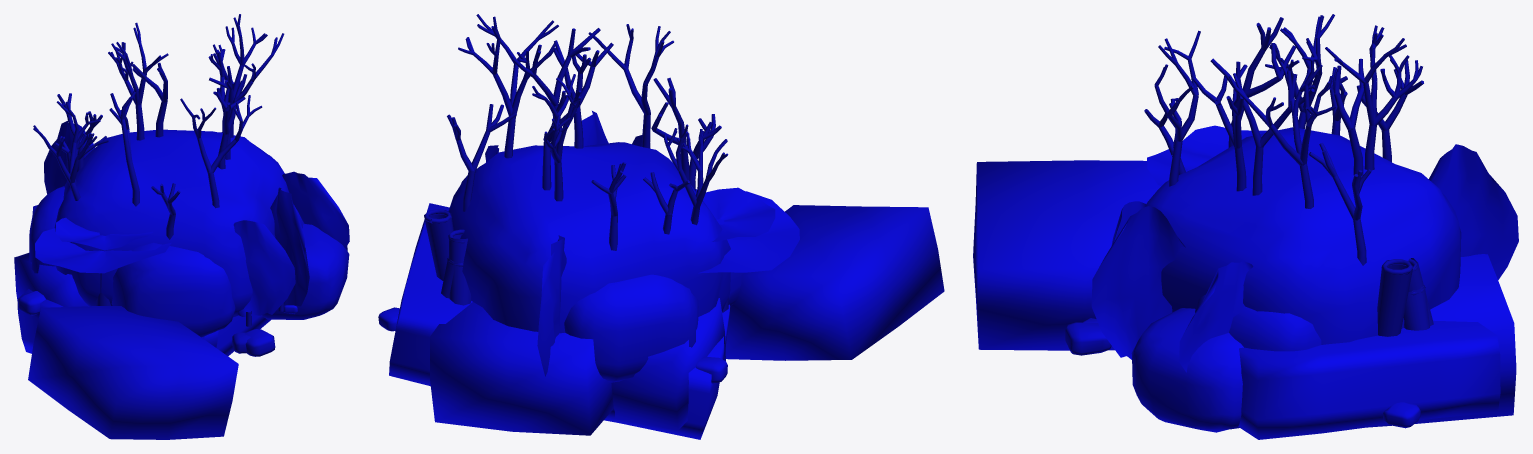
Rendered from coral_head_b.glb.
3 views of the same model, side by side, from view 1: azimuth 30°, elevation 25°; view 2: azimuth 150°, elevation 25°; view 3: azimuth 270°, elevation 25° (orthographic). The views are drawn at different scales.
Parts seen in each view (by area): view 1: coral_head_b; view 2: coral_head_b; view 3: coral_head_b.
Part boxes in pixels (bbox=[...]): coral_head_b: bbox=[14, 14, 349, 439]; coral_head_b: bbox=[378, 14, 944, 439]; coral_head_b: bbox=[973, 14, 1518, 439].
Size of what is drawn, in the model's own units: 1.51 by 1.26 by 1.58.
